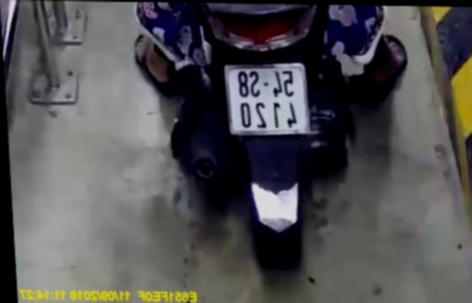License_Plate: (217, 56, 323, 141)
